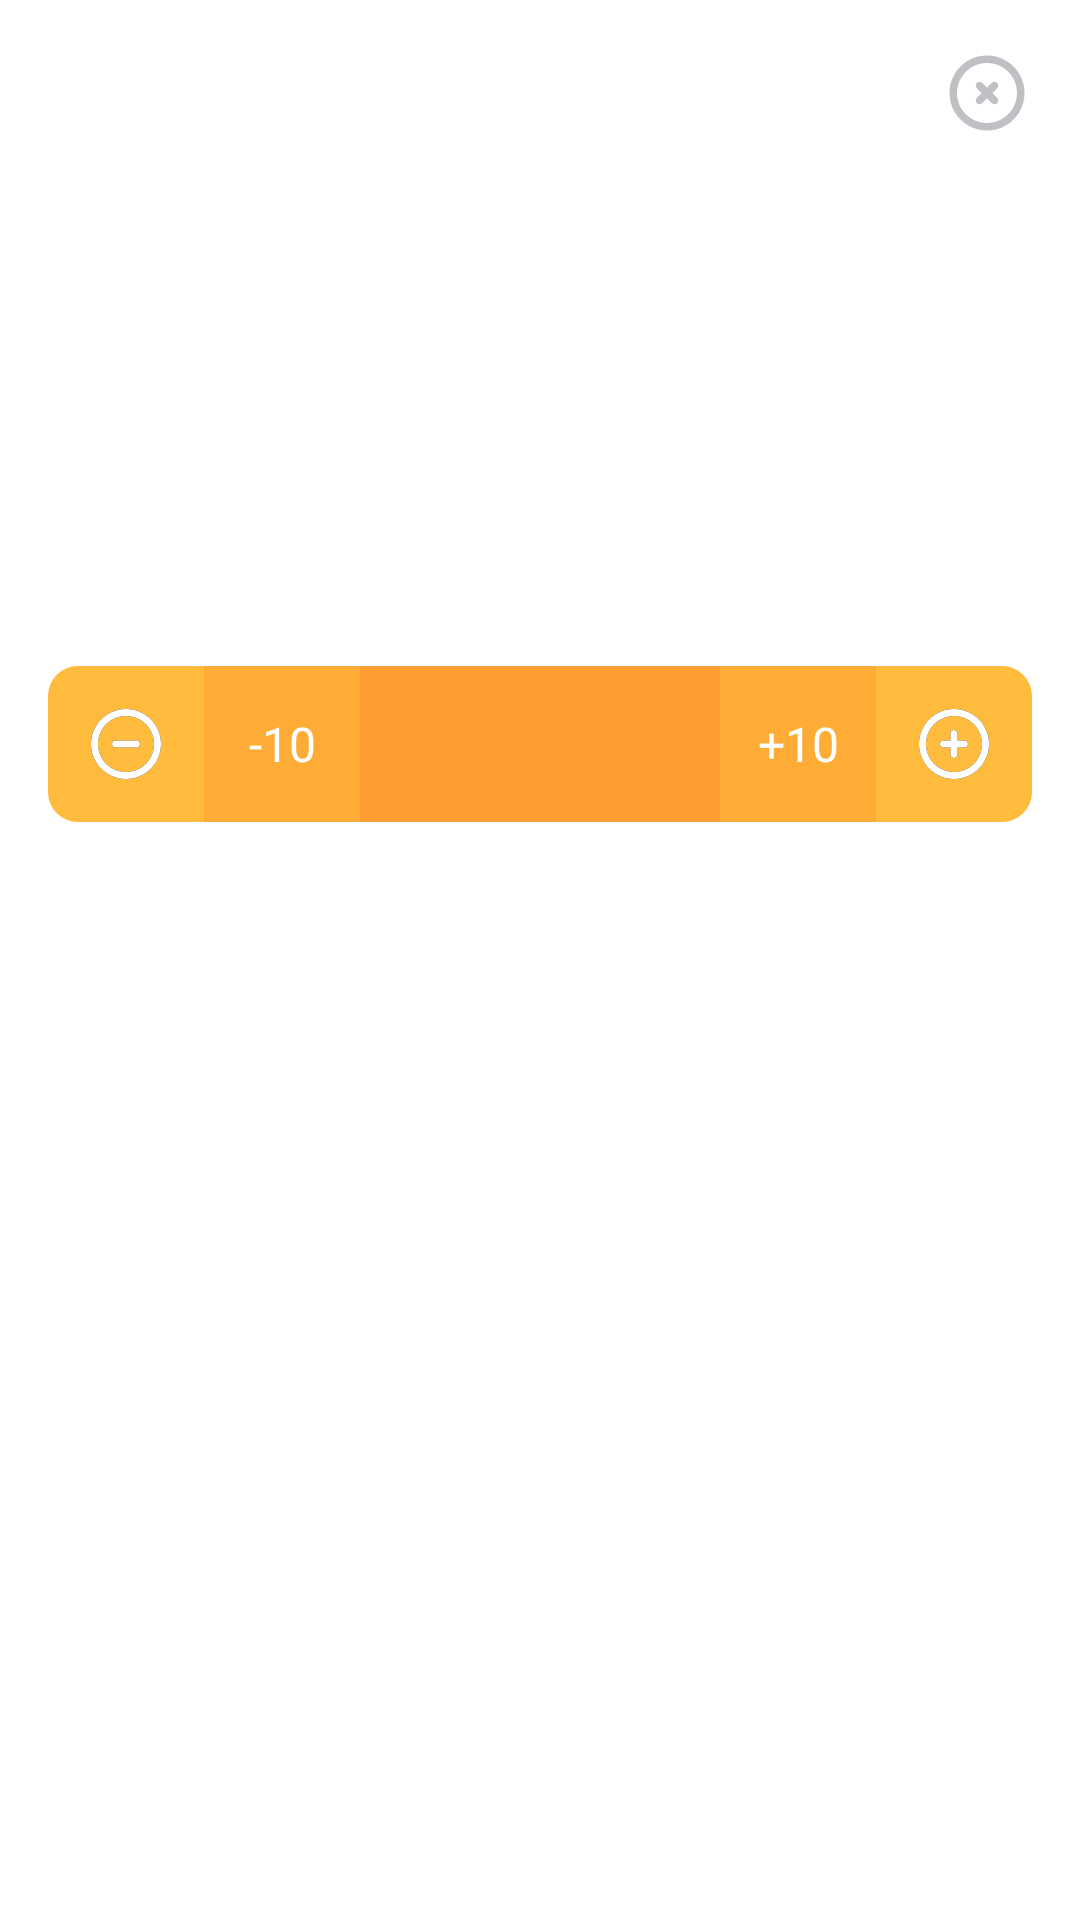

Icons on this 1080*1920 Android screen, each with the point to tap as (x,y):
close circle: (987,93)
minus circle: (126,744)
plus circle: (954,744)
